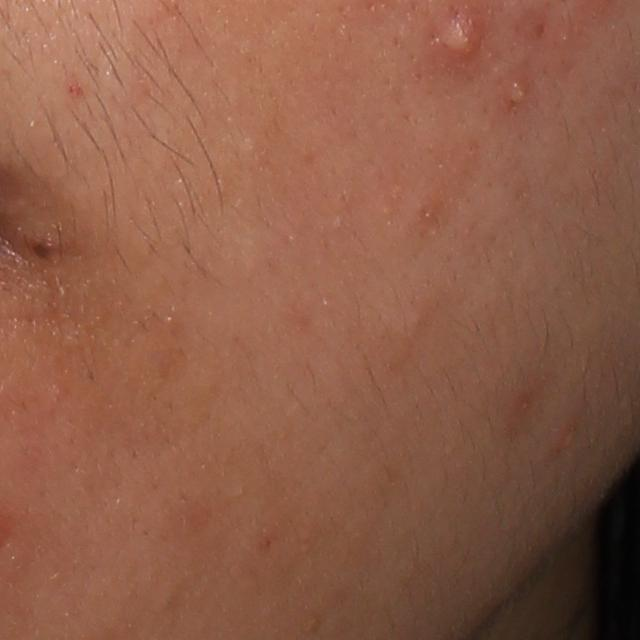nevus: (28, 238, 52, 260)
pustule: (436, 11, 484, 63), (501, 72, 529, 108)
